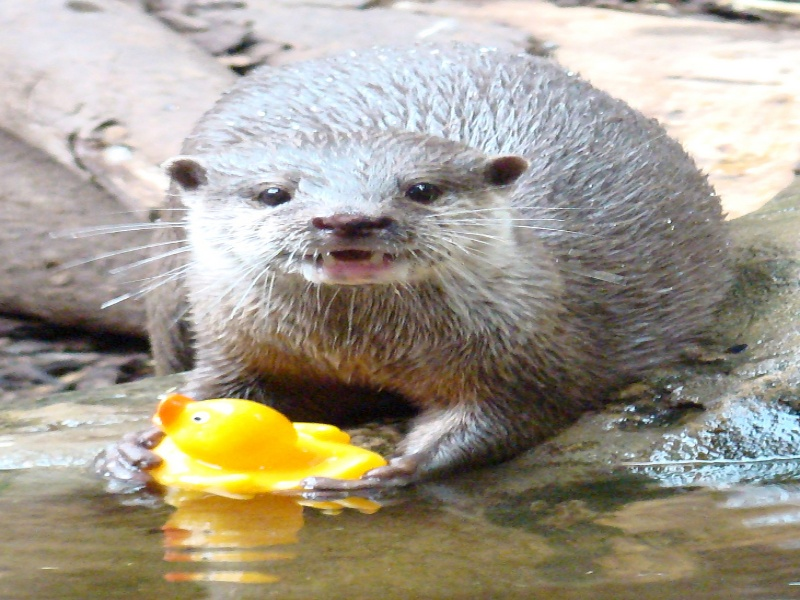minkish: (133, 33, 742, 499)
